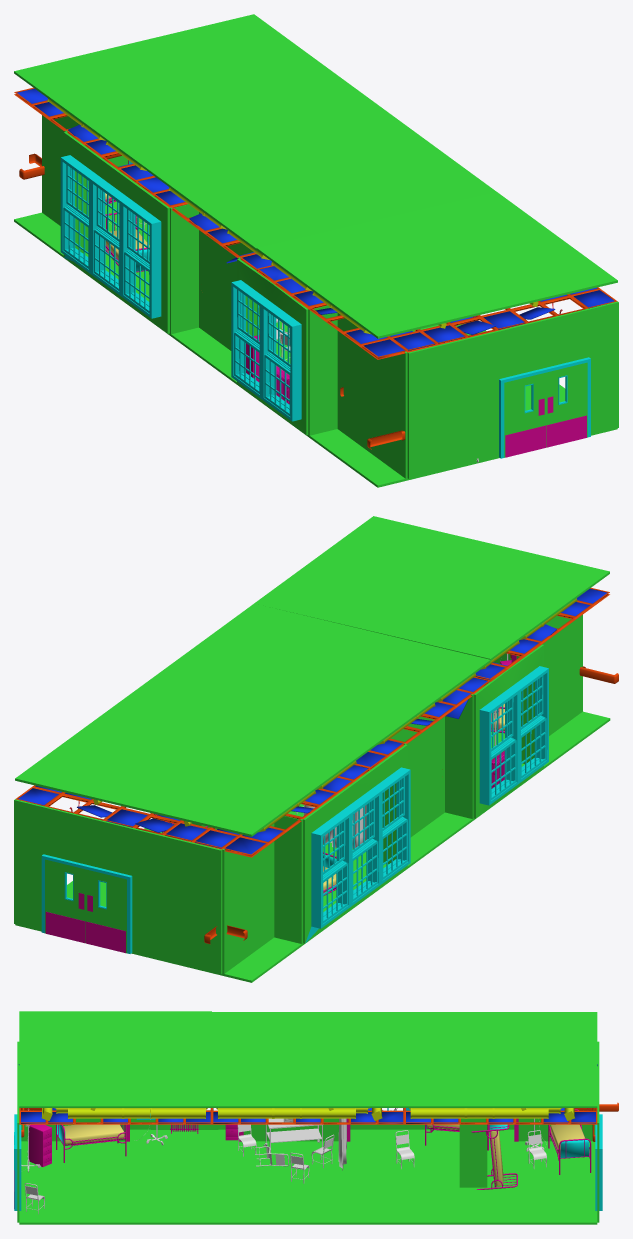
Rendered from TO_Jam_Hallway_Medium_Var2.fbx.
3 renders of one model, top to bottom at view 1: azimuth 30°, elevation 25°; view 2: azimuth 150°, elevation 25°; view 3: azimuth 270°, elevation 25°, orthographic. The views are drawn at different scales.
Parts seen in each view (by area): view 1: ICU_RoofSet_1_7/8U.009, ICU_RoofSet_1_7/8U.011, ICU_RoofSet_1_7/8U.010, ICU_WindowSet_Large_6U_.004, ICU_WallSet_3_3U_.006, ICU_WindowSet_Medium_4U_.002, ICU_WallSet_4_4U_.001, ICU_DoorwaySet_Double_3U_.006, ICU_WallSet_1_1U_.018, ICU_WallSet_4_4U_.002, ICU_WallSet_1_1U_.019, ICU_WallSet_1_1U_.021 (+7 smaller); view 2: ICU_RoofSet_1_7/8U.011, ICU_RoofSet_1_7/8U.010, ICU_RoofSet_1_7/8U.009, ICU_WindowSet_Large_6U_.004, ICU_WallSet_3_3U_.005, ICU_WindowSet_Medium_4U_.002, ICU_DoorwaySet_Double_3U_.005, ICU_WallSet_3_3U_.011, ICU_WallSet_4_4U_.002, ICU_WallSet_4_4U_.001, ICU_WallSet_1_1U_.016, ICU_WallSet_1_1U_.023 (+8 smaller); view 3: ICU_RoofSet_1_7/8U.009, ICU_RoofSet_1_7/8U.011, ICU_RoofSet_1_7/8U.010, ICU_FloorSet_1_7/8U_.010, ICU_FloorSet_1_7/8U_.009, ICU_FloorSet_1_7/8U_.011, ICU_PillarSet_Large_1U_.006, ICU_FurnSet_HBed_Norm_.013, ICU_FurnSet_HBed_Norm_.016, ICU_FurnSet_HBed_Norm_.015, ICU_FurnSet_FilingCabinet_Large_.005, ICU_WallSet_4_4U_.002 (+16 smaller).
Part boxes in pixels (x1,y1,x2,y2): ICU_RoofSet_1_7/8U.009: [256, 191, 617, 359]; ICU_RoofSet_1_7/8U.011: [14, 14, 374, 182]; ICU_RoofSet_1_7/8U.010: [135, 103, 495, 270]; ICU_WindowSet_Large_6U_.004: [60, 132, 169, 333]; ICU_WallSet_3_3U_.006: [407, 330, 498, 478]; ICU_WindowSet_Medium_4U_.002: [231, 258, 308, 435]; ICU_WallSet_4_4U_.001: [337, 313, 407, 478]; ICU_DoorwaySet_Double_3U_.006: [498, 308, 590, 458]; ICU_WallSet_1_1U_.018: [588, 301, 618, 434]; ICU_WallSet_4_4U_.002: [199, 212, 253, 350]; ICU_WallSet_1_1U_.019: [308, 305, 337, 435]; ICU_WallSet_1_1U_.021: [170, 204, 198, 334]; ICU_RoofSet_1_7/8U.011: [15, 691, 371, 857]; ICU_RoofSet_1_7/8U.010: [135, 603, 490, 769]; ICU_RoofSet_1_7/8U.009: [254, 516, 609, 681]; ICU_WindowSet_Large_6U_.004: [303, 744, 410, 943]; ICU_WallSet_3_3U_.005: [132, 828, 222, 974]; ICU_WindowSet_Medium_4U_.002: [473, 644, 548, 818]; ICU_DoorwaySet_Double_3U_.005: [41, 806, 132, 953]; ICU_WallSet_3_3U_.011: [222, 824, 274, 973]; ICU_WallSet_4_4U_.002: [390, 716, 444, 837]; ICU_WallSet_4_4U_.001: [543, 615, 582, 735]; ICU_WallSet_1_1U_.016: [14, 799, 44, 930]; ICU_WallSet_1_1U_.023: [274, 816, 302, 943]; ICU_RoofSet_1_7/8U.009: [18, 1011, 211, 1124]; ICU_RoofSet_1_7/8U.011: [382, 1012, 597, 1124]; ICU_RoofSet_1_7/8U.010: [212, 1012, 404, 1124]; ICU_FloorSet_1_7/8U_.010: [212, 1129, 404, 1224]; ICU_FloorSet_1_7/8U_.009: [19, 1129, 211, 1224]; ICU_FloorSet_1_7/8U_.011: [404, 1129, 597, 1224]; ICU_PillarSet_Large_1U_.006: [459, 1118, 487, 1187]; ICU_FurnSet_HBed_Norm_.013: [56, 1122, 126, 1162]; ICU_FurnSet_HBed_Norm_.016: [548, 1109, 591, 1174]; ICU_FurnSet_HBed_Norm_.015: [471, 1124, 517, 1189]; ICU_FurnSet_FilingCabinet_Large_.005: [29, 1124, 52, 1166]; ICU_WallSet_4_4U_.002: [243, 1118, 338, 1141].
Size of the model in its own units: 840 by 481 by 2198.
